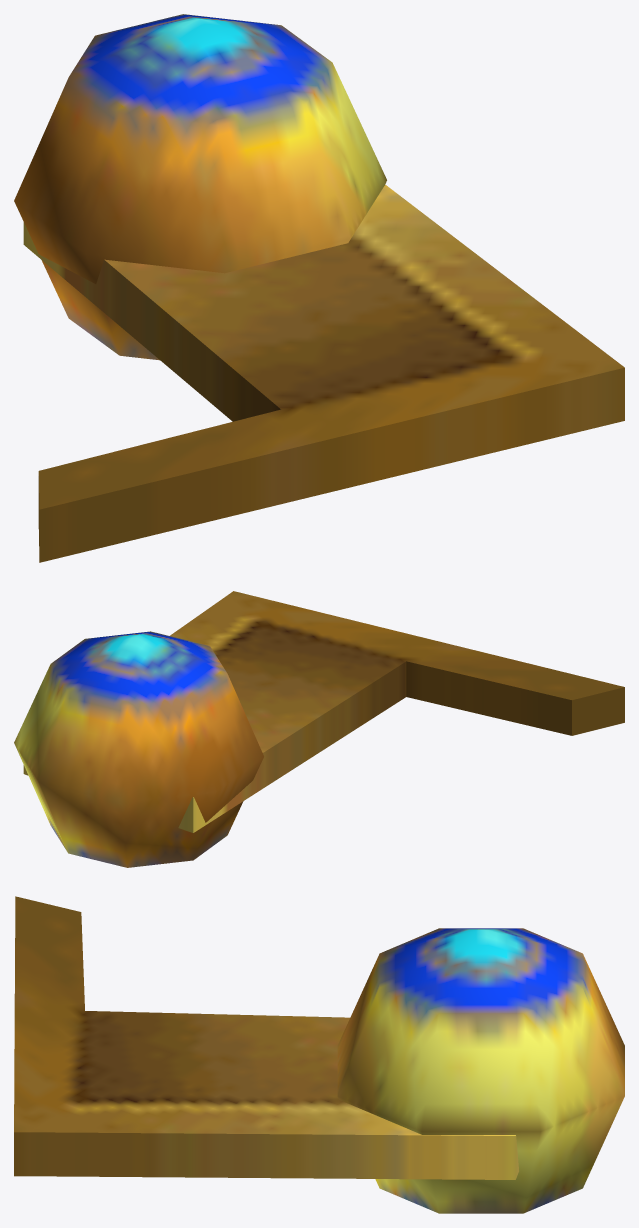
The picture shows the model from 3 angles, top to bottom: view 1: azimuth 30°, elevation 25°; view 2: azimuth 150°, elevation 25°; view 3: azimuth 270°, elevation 25°; orthographic projection. The views are drawn at different scales.
Parts seen in each view (by area): view 1: aw203 (×2); view 2: aw203 (×2); view 3: aw203 (×2).
Boxes of the visible parts, <box> form: aw203 (×2): <box>14,14,624,562</box>; aw203 (×2): <box>14,591,624,867</box>; aw203 (×2): <box>14,896,624,1213</box>.
Bounding box in the file's own units: 10.41 × 5.71 × 11.21.
2 materials, 2 textured.
